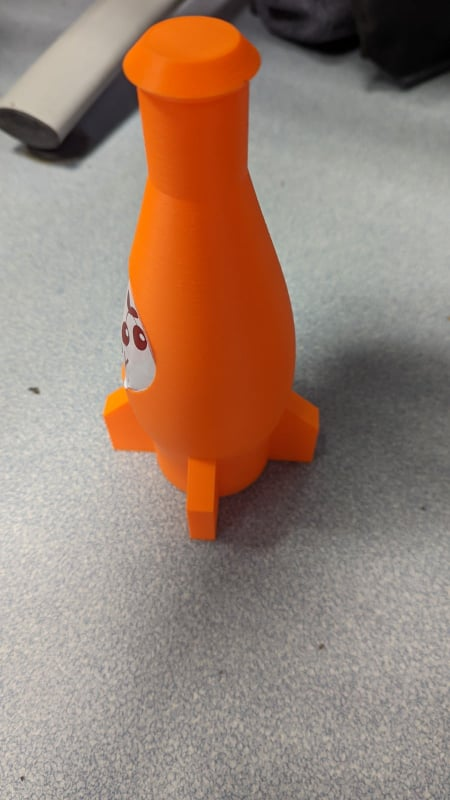bottle: (102, 15, 323, 548)
